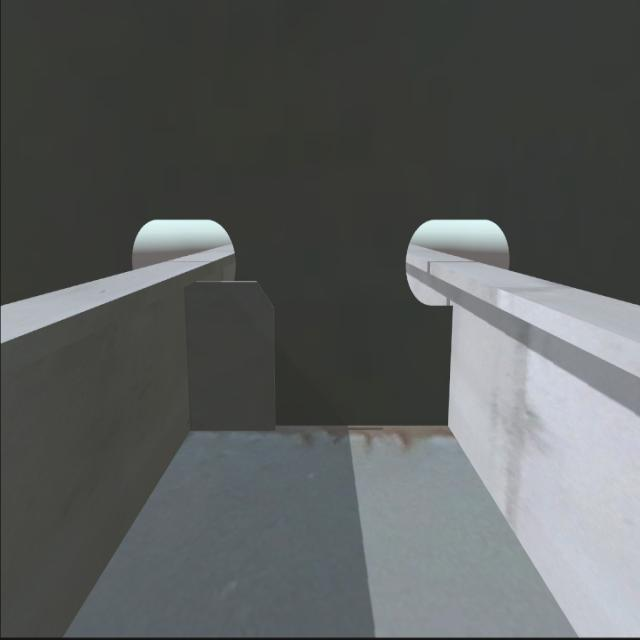fillet_yong_jeop_jang: (188, 421, 452, 431)
longi_yong_jeop_jang: (181, 284, 199, 432), (446, 304, 457, 432)
plate_CP03: (188, 279, 279, 428)
